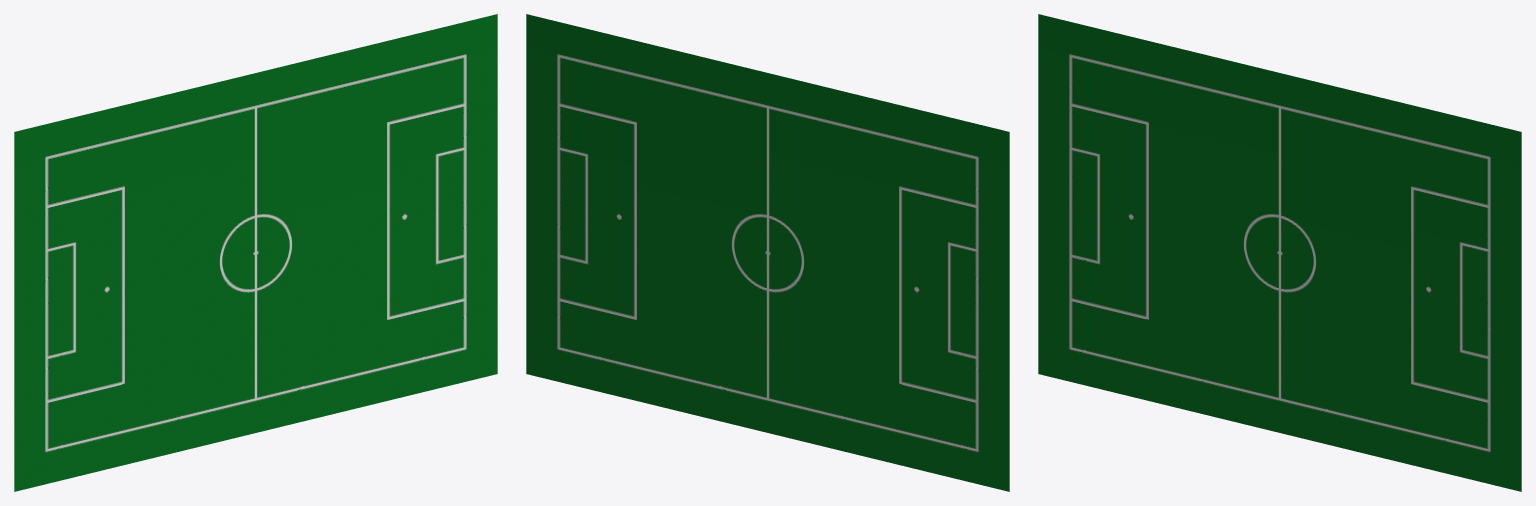
The model's file is field.glb.
3 renders of one model, left to right at view 1: azimuth 30°, elevation 25°; view 2: azimuth 150°, elevation 25°; view 3: azimuth 330°, elevation 25°, orthographic.
Visible parts, largest first — view 1: Plane; view 2: Plane; view 3: Plane.
Boxes of the visible parts, <box> form: Plane: <box>14,14,497,491</box>; Plane: <box>526,14,1009,491</box>; Plane: <box>1038,14,1521,491</box>.
Size of the model in its own units: 10.4 by 7.4 by 0.
Materials: 1 (1 with a texture image).
